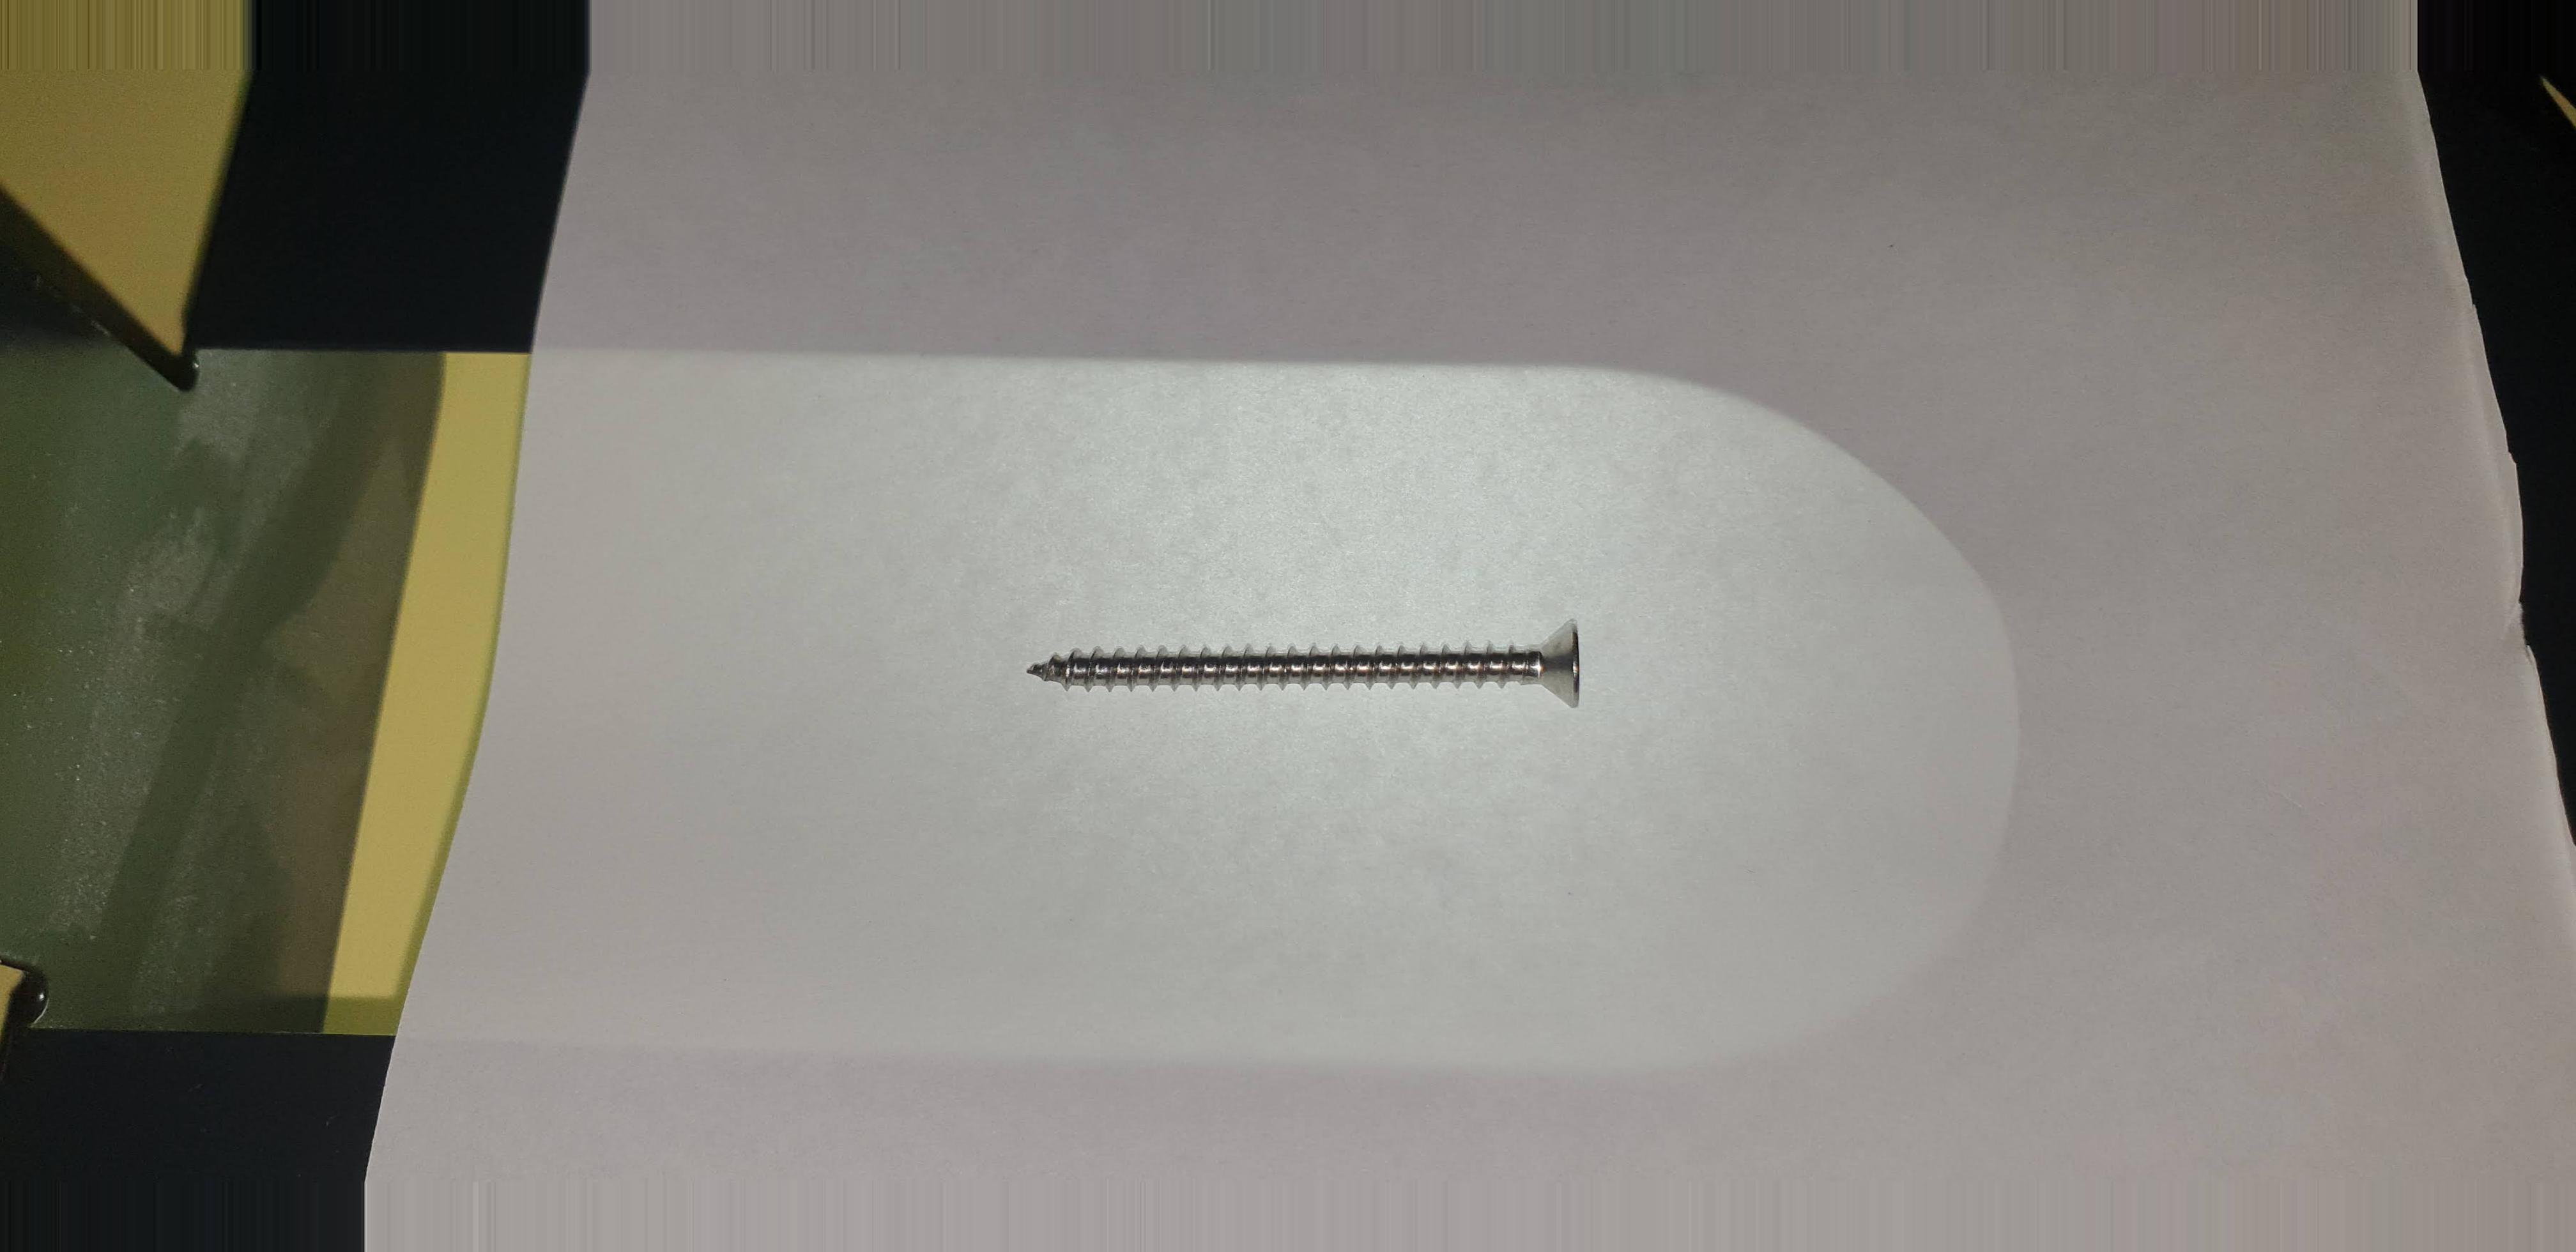fastener: (981, 567, 1635, 757)
